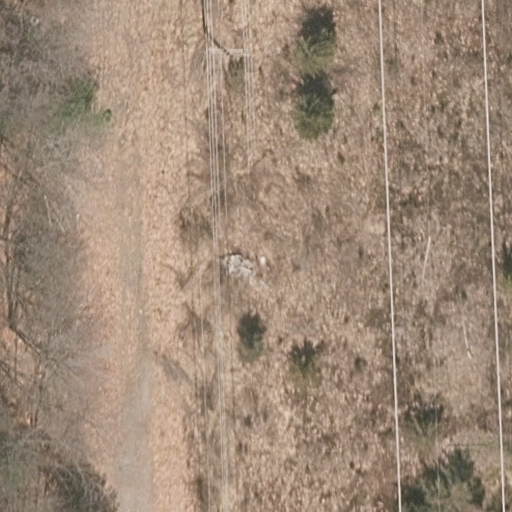DT: (203, 29, 244, 65)
